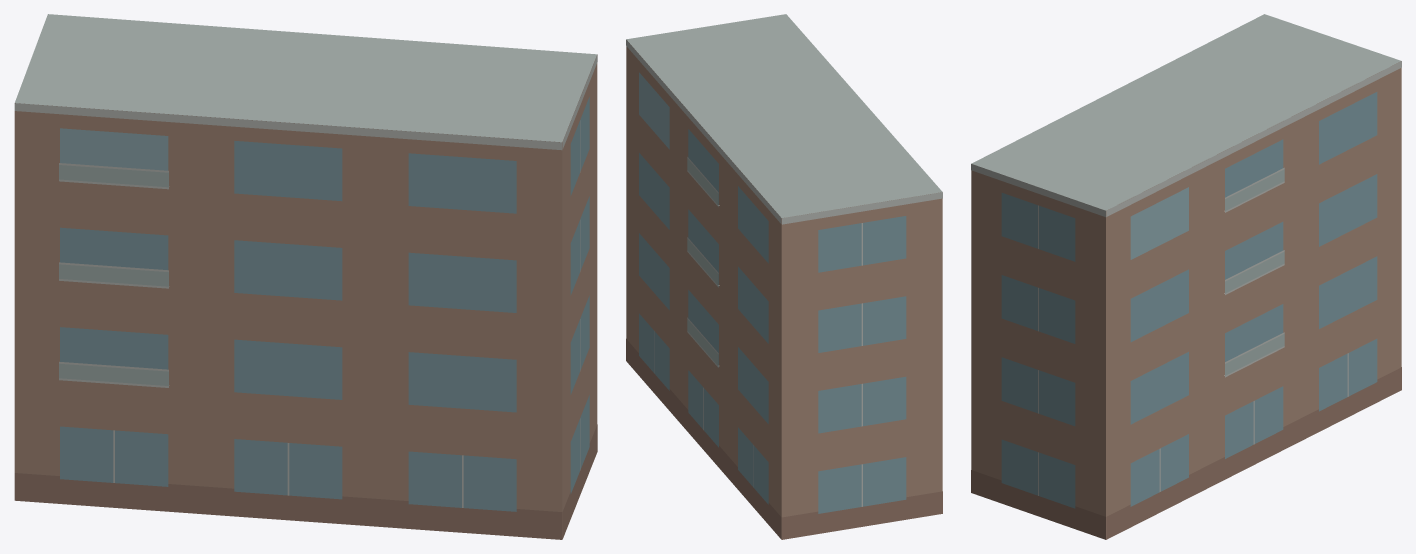
The model's file is survey-upis-32704684.glb.
The picture shows the model from 3 angles, left to right: view 1: azimuth 30°, elevation 25°; view 2: azimuth 150°, elevation 25°; view 3: azimuth 270°, elevation 25°; orthographic projection. The views are drawn at different scales.
Parts seen in each view (by area): view 1: survey-upis-32704684.tmp; view 2: survey-upis-32704684.tmp; view 3: survey-upis-32704684.tmp.
Boxes of the visible parts, left/top/right/bottom form: survey-upis-32704684.tmp: left=14, top=14, right=597, bottom=539; survey-upis-32704684.tmp: left=626, top=14, right=942, bottom=539; survey-upis-32704684.tmp: left=971, top=14, right=1401, bottom=539.
Size of the model in its own units: 15.65 by 12.2 by 14.47.
